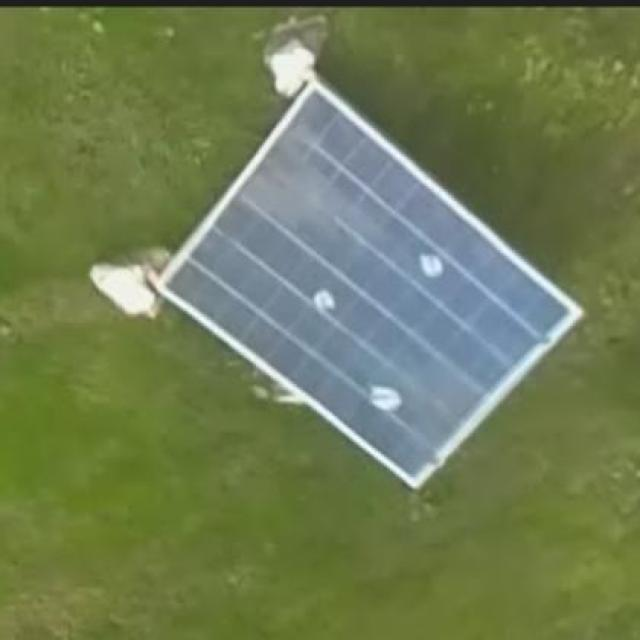soiled: (169, 80, 588, 490)
